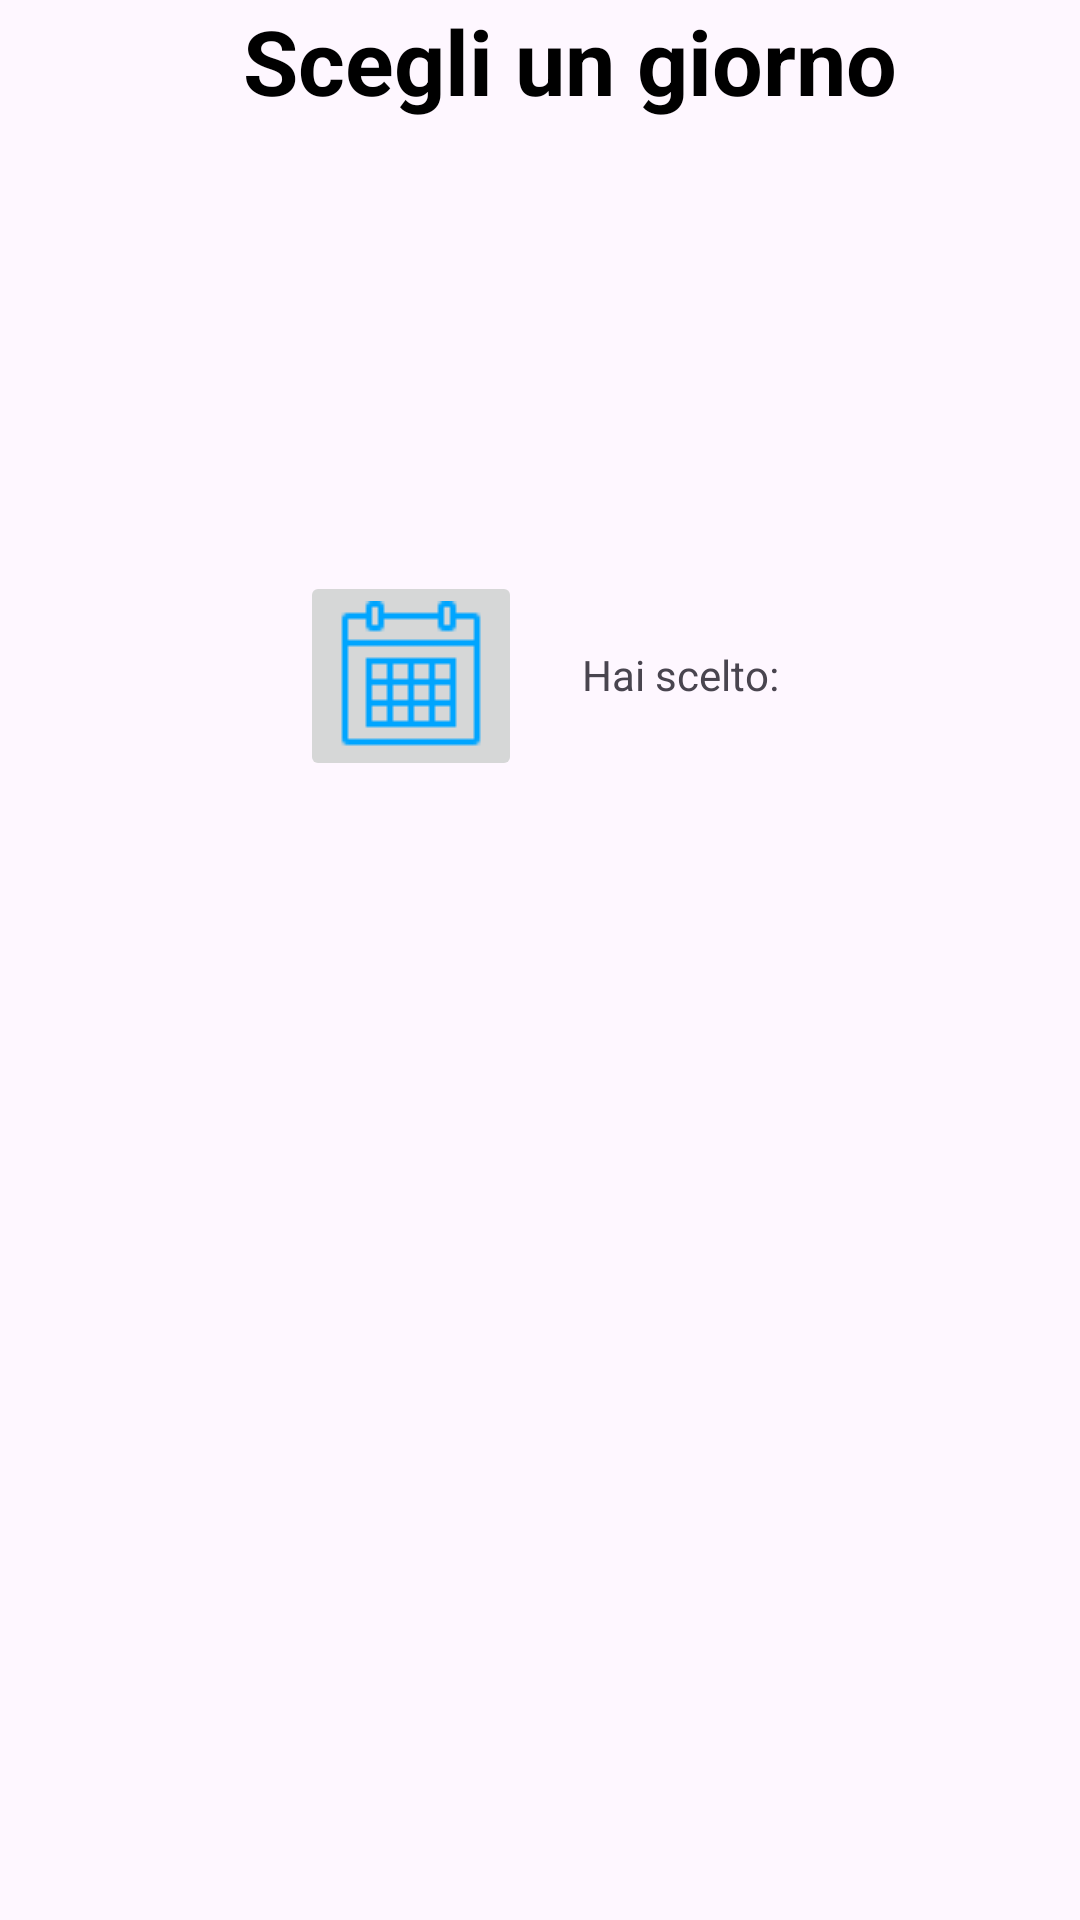

Point at icon controls on the screen. Image size 1080 x 1920, points as [x,y].
calendar: [411,676]
